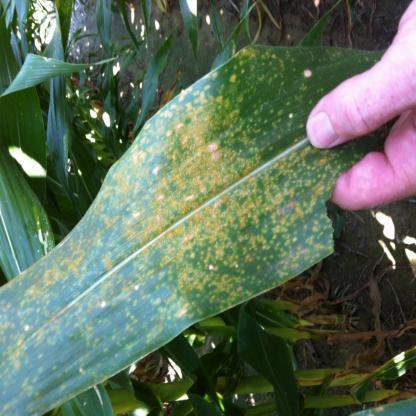Corn rust leaf: (0, 43, 300, 415)
